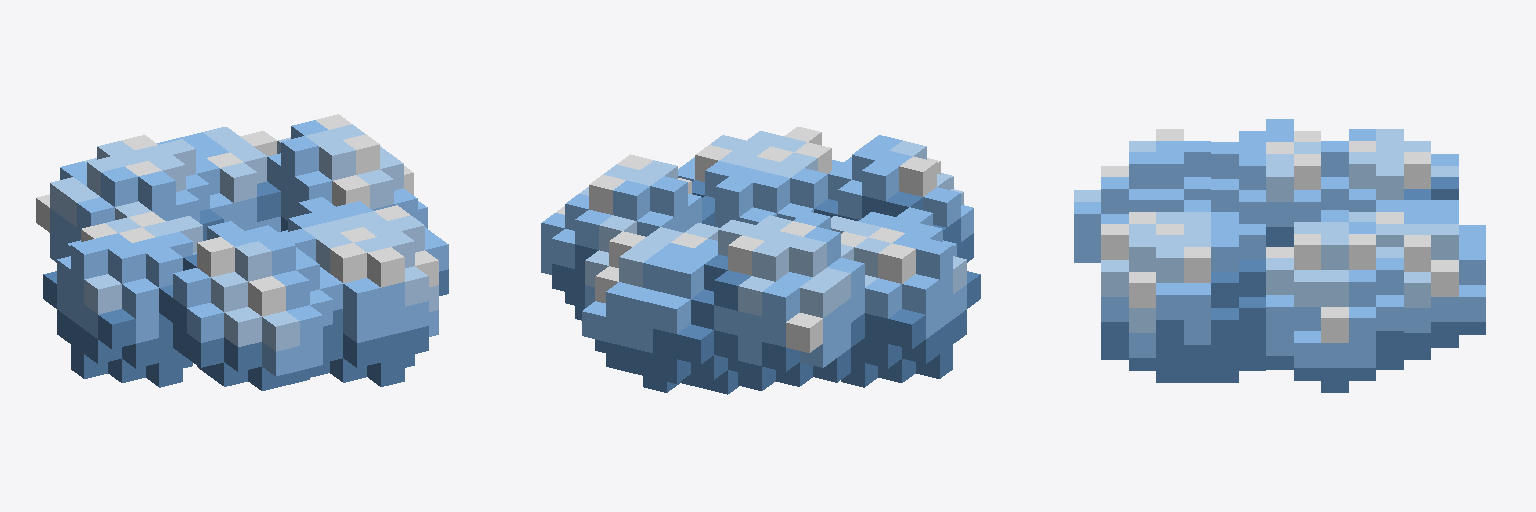
3 views of the same model, side by side, from view 1: azimuth 30°, elevation 25°; view 2: azimuth 150°, elevation 25°; view 3: azimuth 270°, elevation 25° (orthographic).
Bounding box in the file's own units: 15 × 6 × 15.
1 materials, 1 textured.